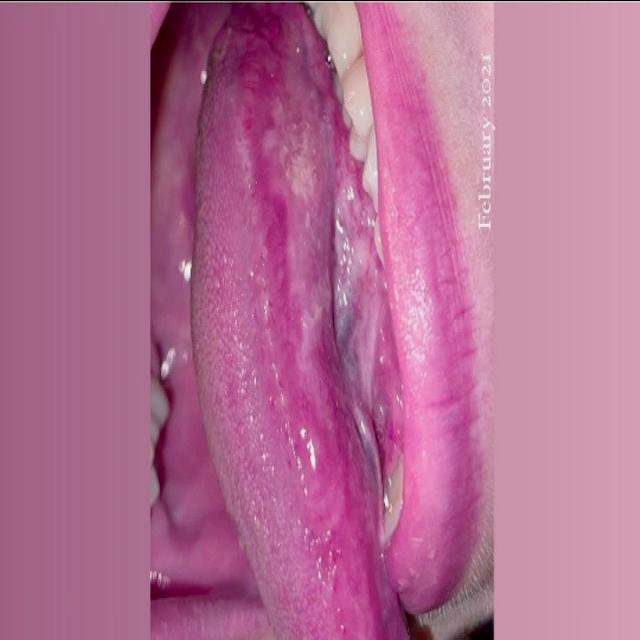Cancer: (224, 10, 386, 366)
